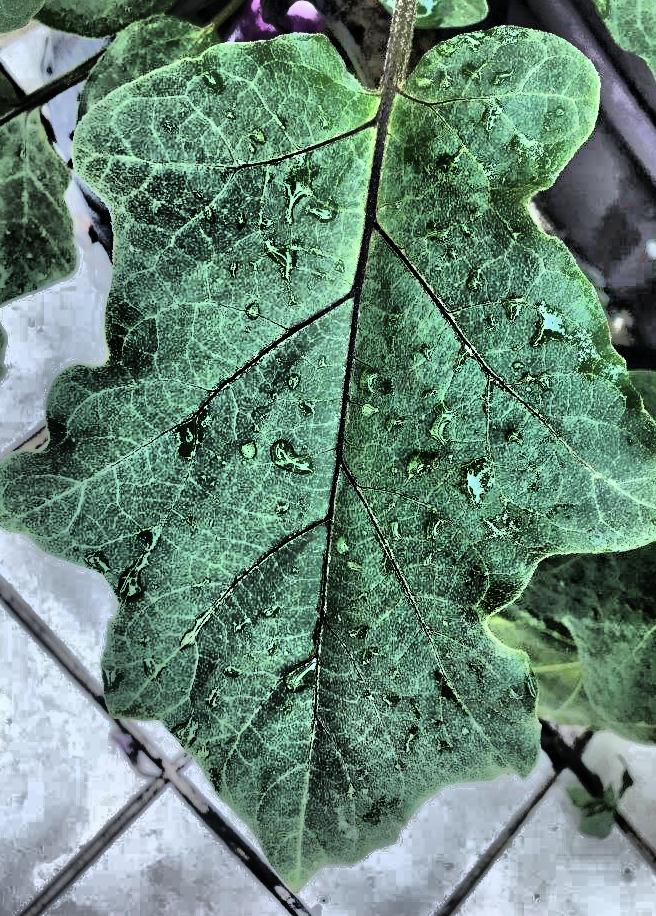HEALTHY: (18, 0, 656, 673)
